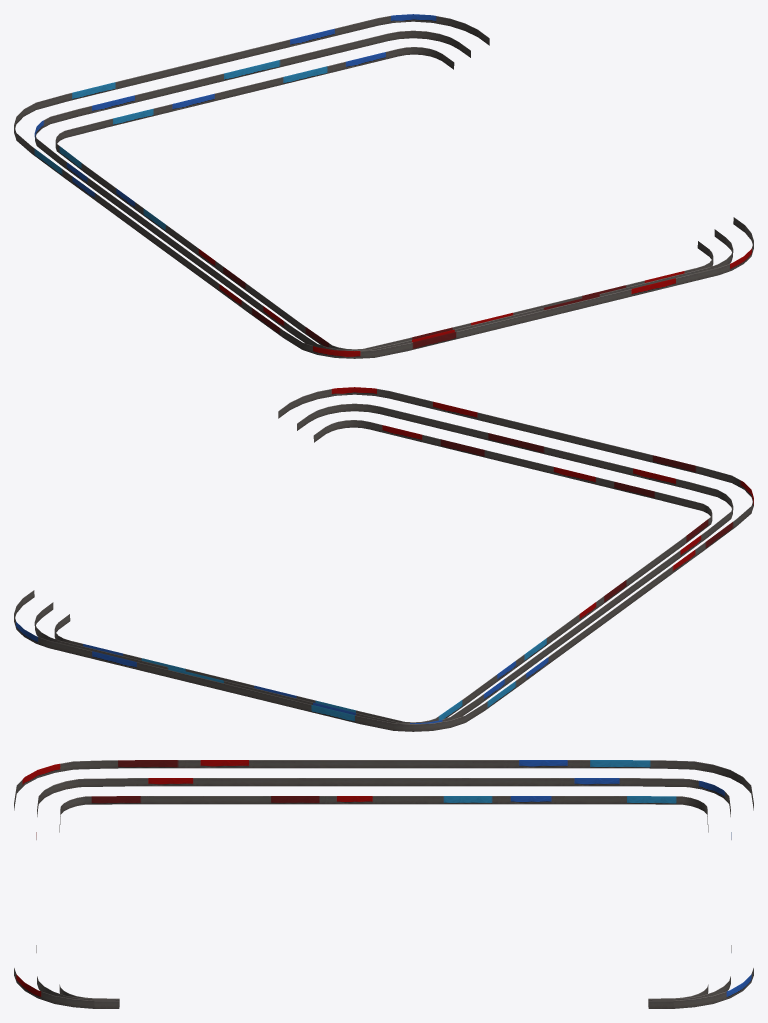
Rendered from st_021_team_003_flag.fbx.
The picture shows the model from 3 angles, top to bottom: view 1: azimuth 30°, elevation 25°; view 2: azimuth 150°, elevation 25°; view 3: azimuth 270°, elevation 25°; orthographic projection. The views are drawn at different scales.
Parts seen in each view (by area): view 1: team_flag_003_out; view 2: team_flag_003_out; view 3: team_flag_003_out.
Boxes of the visible parts, <box> form: team_flag_003_out: <box>14,14,753,358</box>; team_flag_003_out: <box>14,387,753,731</box>; team_flag_003_out: <box>14,760,753,1008</box>.
Size of the model in its own units: 112 by 5.48 by 146.
